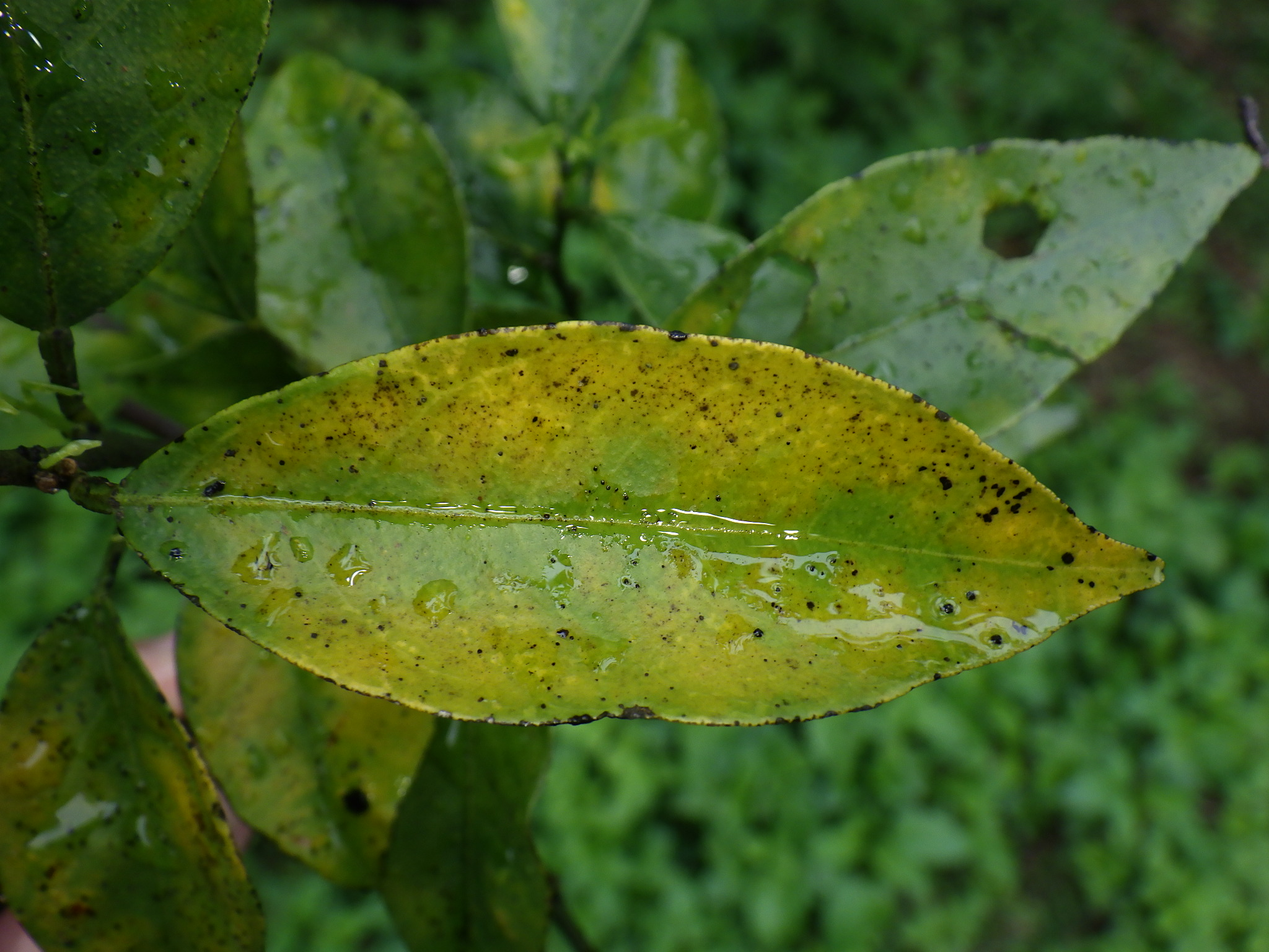Oily_Spot: (117, 323, 1162, 724)
